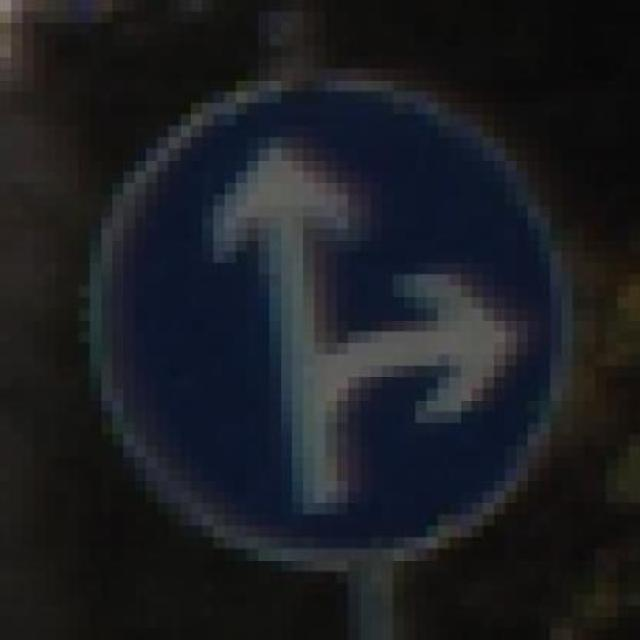Go Straight or Turn Right: (55, 46, 596, 583)
